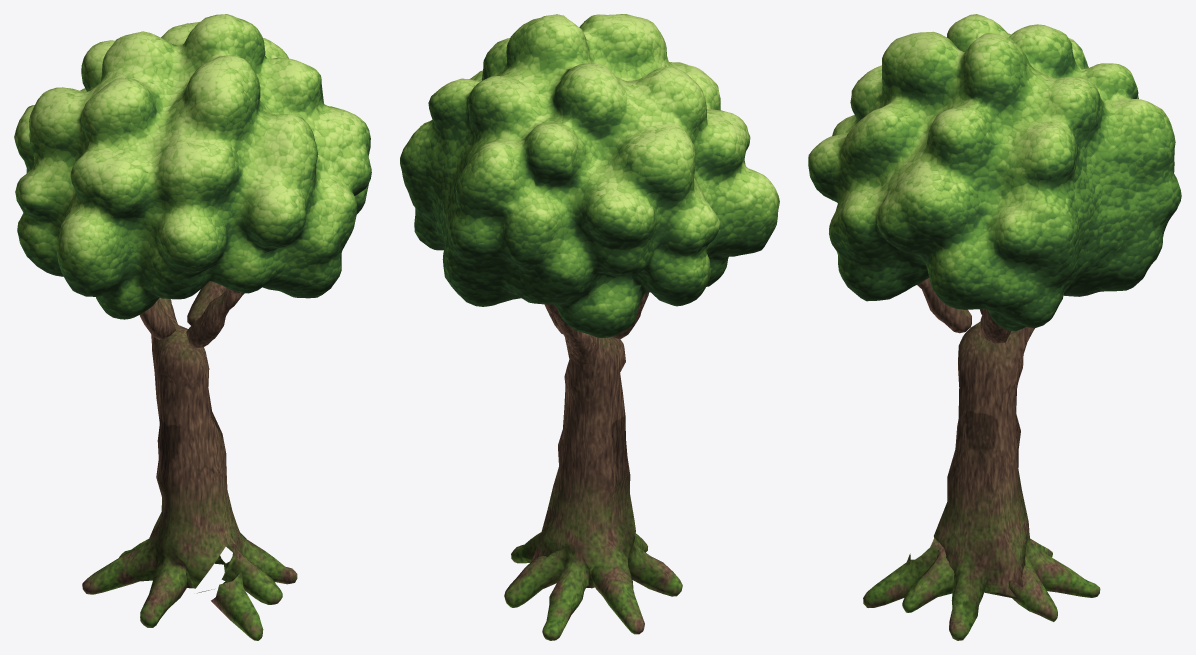
The model's file is tree_ancient.glb.
3 renders of one model, left to right at view 1: azimuth 30°, elevation 25°; view 2: azimuth 150°, elevation 25°; view 3: azimuth 270°, elevation 25°, orthographic.
Visible parts, largest first — view 1: tree_ancient; view 2: tree_ancient; view 3: tree_ancient.
Boxes of the visible parts, x1,y1,x2,y2 form: tree_ancient: (14, 14, 371, 640); tree_ancient: (400, 14, 779, 640); tree_ancient: (808, 14, 1181, 640).
Bounding box in the file's own units: 8.74 × 14.89 × 8.64.
1 material, 1 textured.
